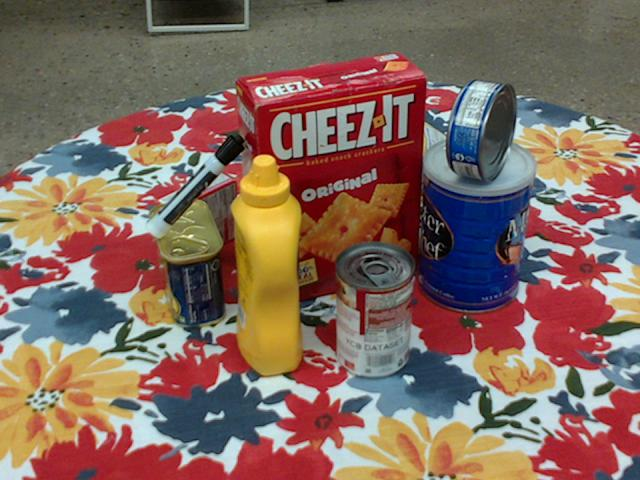cracker_box: (236, 52, 428, 306)
gelatin_box: (156, 171, 238, 268)
large_marker: (146, 133, 245, 237)
master_chef_can: (421, 136, 534, 315)
mug: (293, 122, 378, 220)
mustard_bottle: (231, 154, 301, 376)
potted_meat_can: (149, 199, 225, 328)
sugar_box: (352, 90, 505, 235)
tomato_soup_can: (334, 241, 414, 379)
tuna_fish_can: (448, 80, 516, 181)
